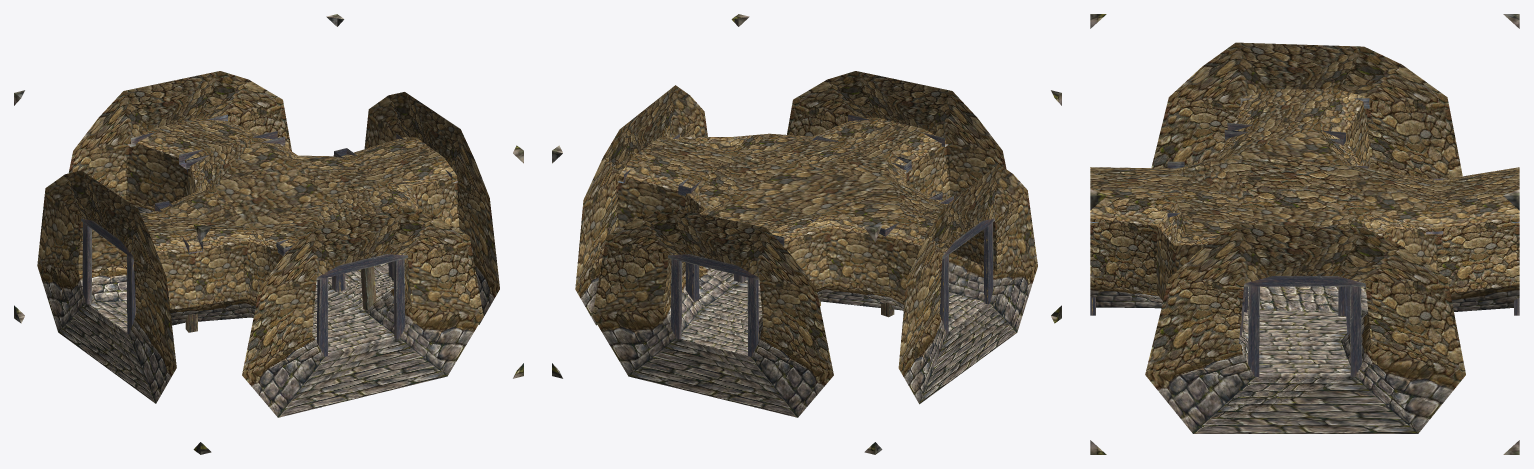
The model's file is Lbm_4a.glb.
The picture shows the model from 3 angles, left to right: view 1: azimuth 30°, elevation 25°; view 2: azimuth 150°, elevation 25°; view 3: azimuth 270°, elevation 25°; orthographic projection. The views are drawn at different scales.
Visible parts, largest first — view 1: Lbm_4a; view 2: Lbm_4a; view 3: Lbm_4a.
Boxes of the visible parts, x1,y1,x2,y2 form: Lbm_4a: (14,14,523,454); Lbm_4a: (552,14,1061,454); Lbm_4a: (1090,14,1519,454).
Size of the model in its own units: 15 by 10 by 15.
6 materials, 6 textured.
